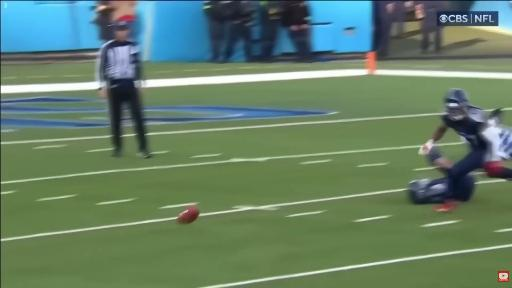Helmet: (445, 89, 468, 120)
Jersey: (442, 106, 487, 149), (408, 175, 474, 203), (499, 128, 511, 159)
Player: (420, 89, 511, 194), (408, 175, 474, 204)
